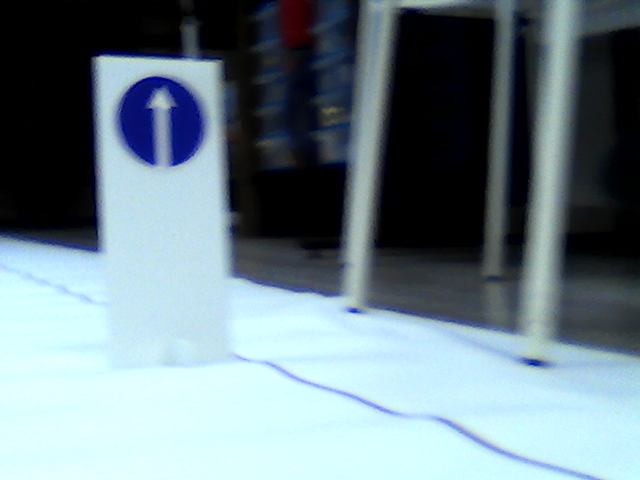forw: (114, 72, 205, 165)
